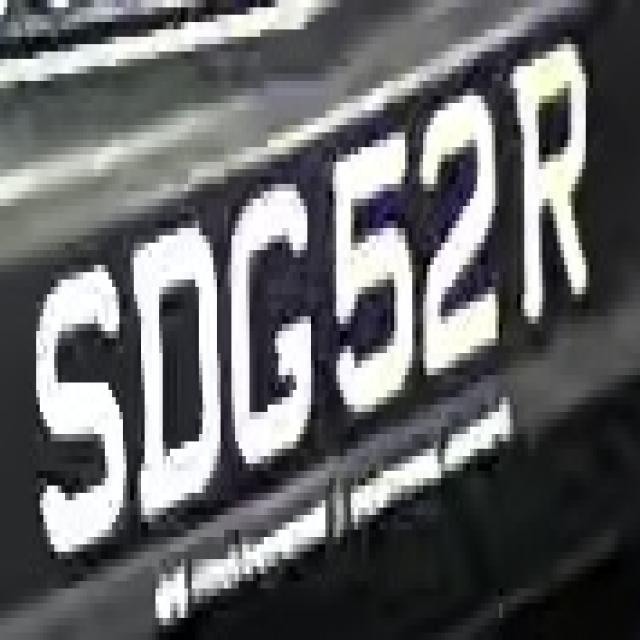2: (412, 96, 506, 397)
5: (318, 132, 419, 434)
D: (123, 213, 224, 552)
G: (217, 176, 325, 493)
R: (502, 44, 608, 331)
S: (22, 243, 141, 581)
